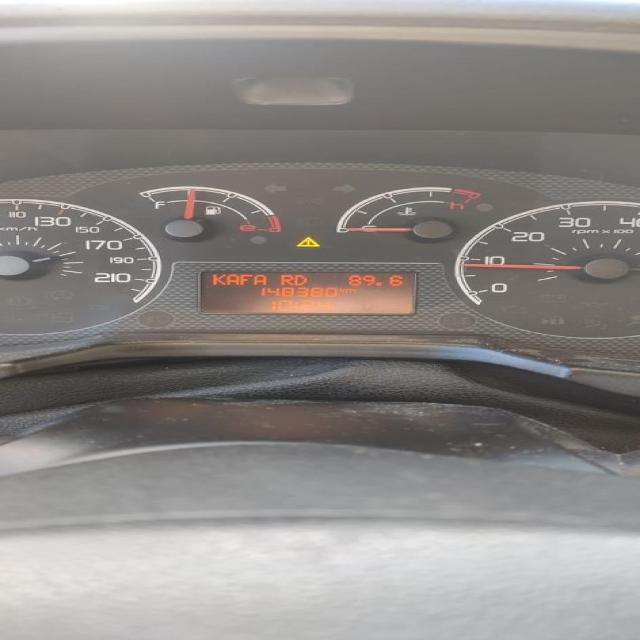odometer: (195, 270, 419, 315)
